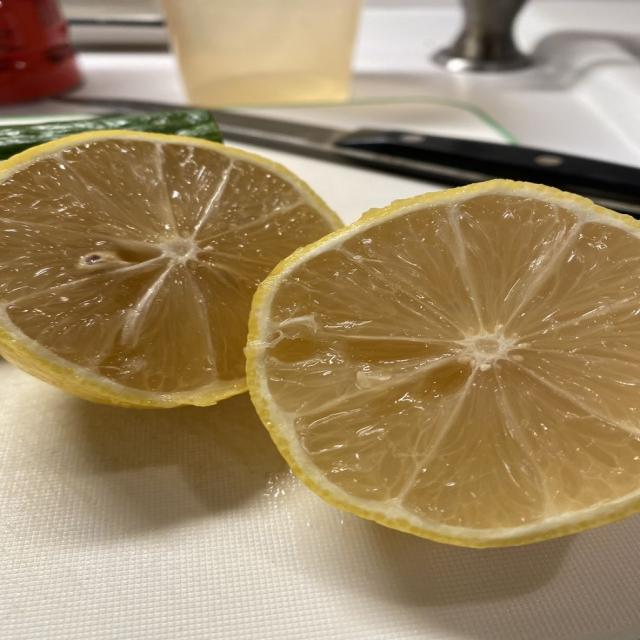lemon: (247, 181, 639, 547), (0, 132, 339, 406)
